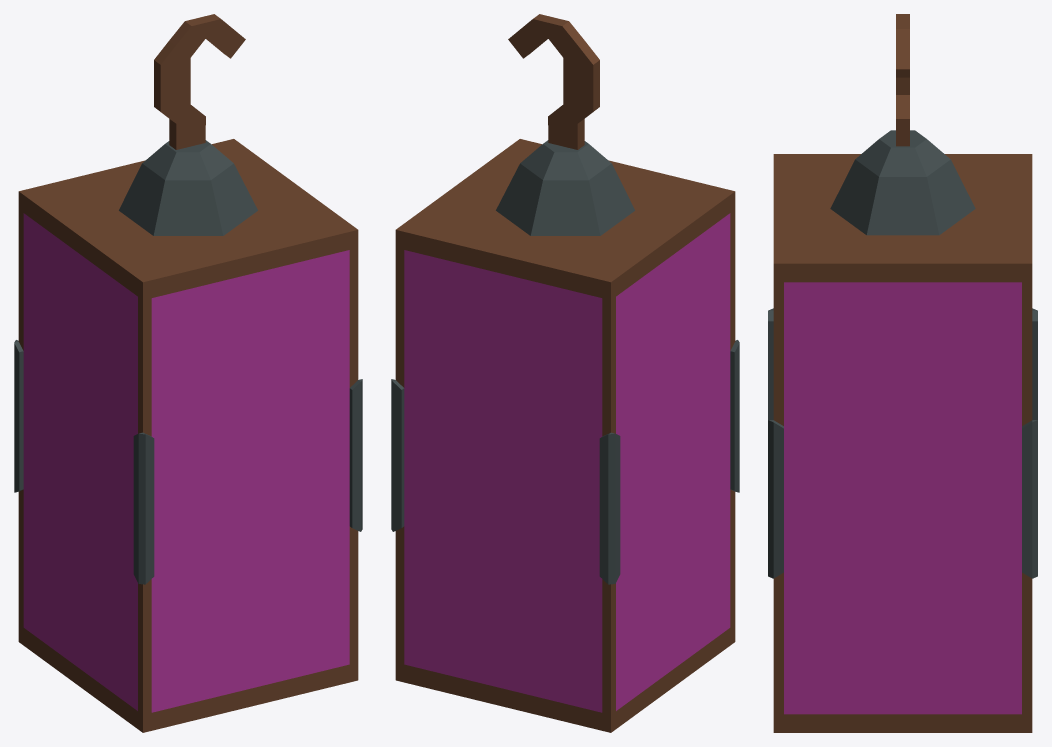
The model's file is Lamp_4_Purple.fbx.
3 views of the same model, side by side, from view 1: azimuth 30°, elevation 25°; view 2: azimuth 150°, elevation 25°; view 3: azimuth 270°, elevation 25° (orthographic). The views are drawn at different scales.
Parts seen in each view (by area): view 1: Lamp_4_Purple; view 2: Lamp_4_Purple; view 3: Lamp_4_Purple.
Boxes of the visible parts, left/top/right/bottom form: Lamp_4_Purple: left=14, top=14, right=362, bottom=732; Lamp_4_Purple: left=391, top=14, right=739, bottom=732; Lamp_4_Purple: left=768, top=14, right=1037, bottom=732.
Bounding box in the file's own units: 25 × 67.91 × 25.
